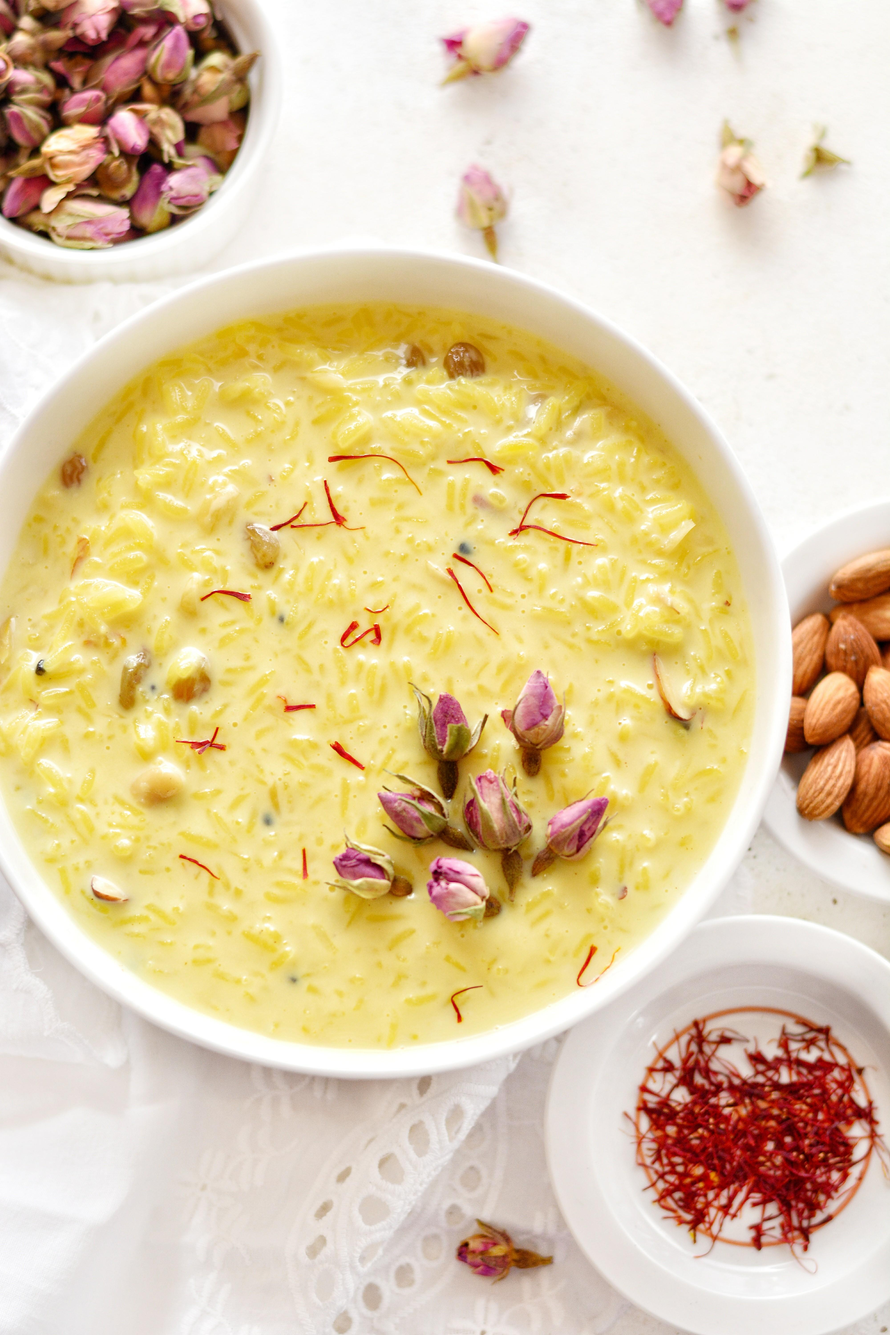Kheer: (0, 306, 756, 1048)
